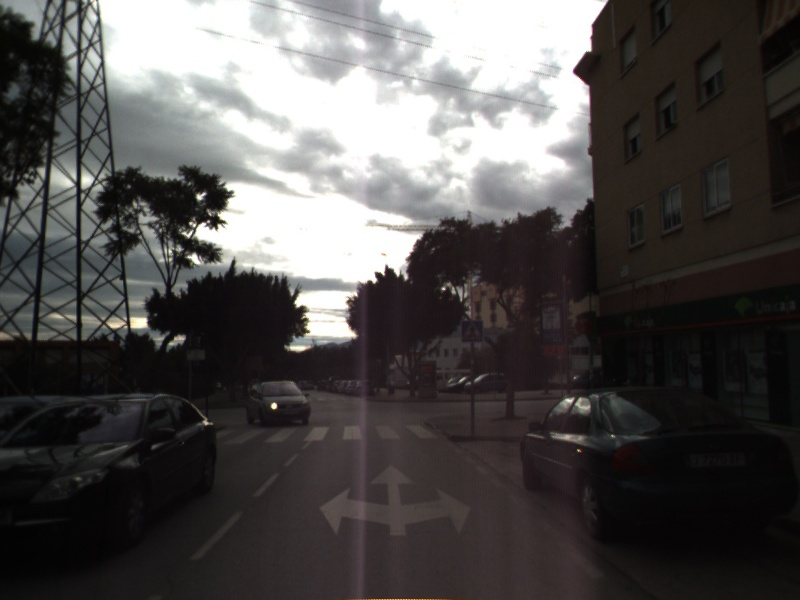STRAIGHT_LEFT_RIGHT: (316, 461, 474, 538)
